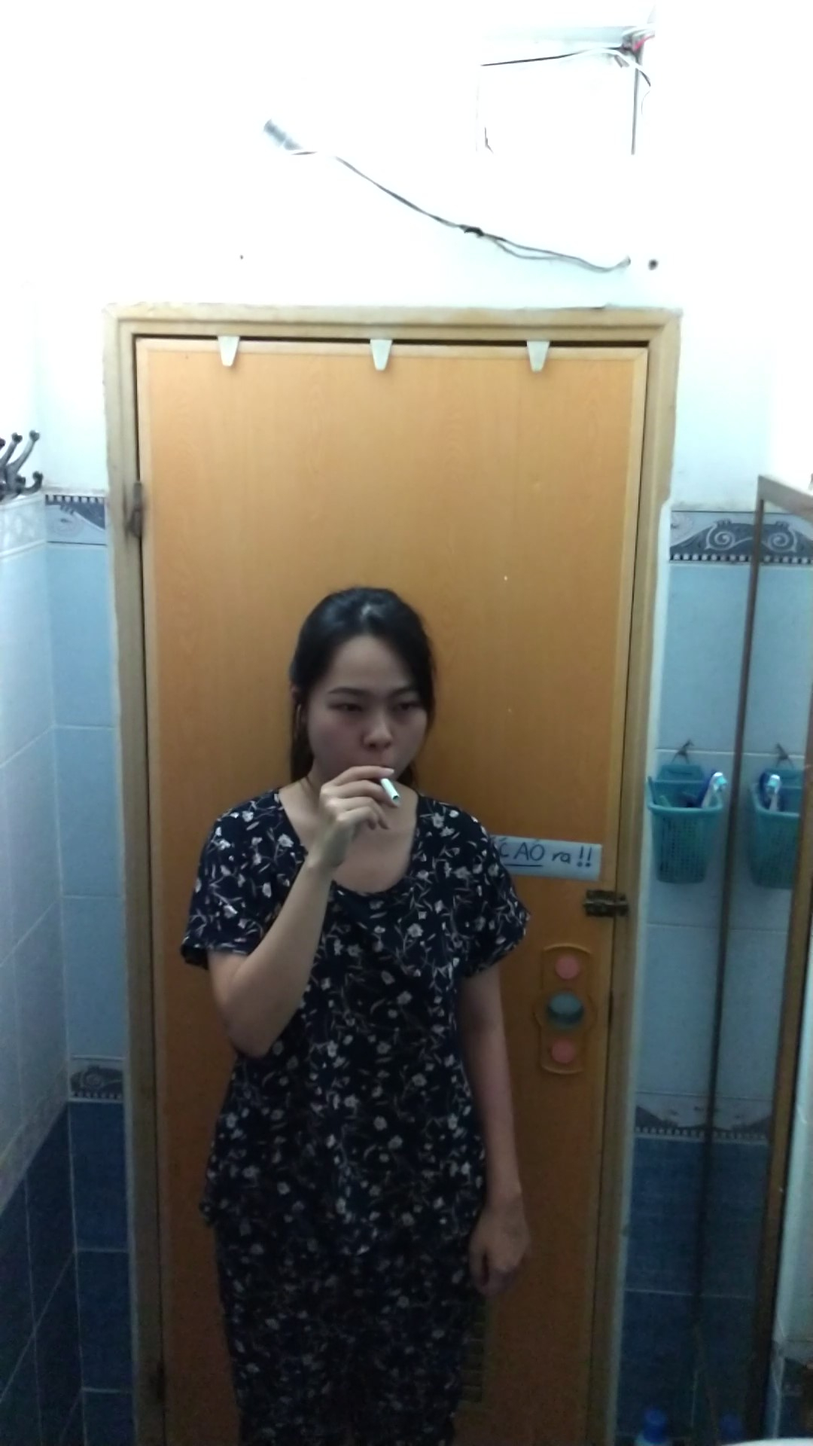cigarette: (379, 776, 402, 805)
person: (181, 581, 546, 1443)
